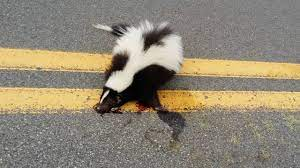skunk: (95, 21, 183, 114)
